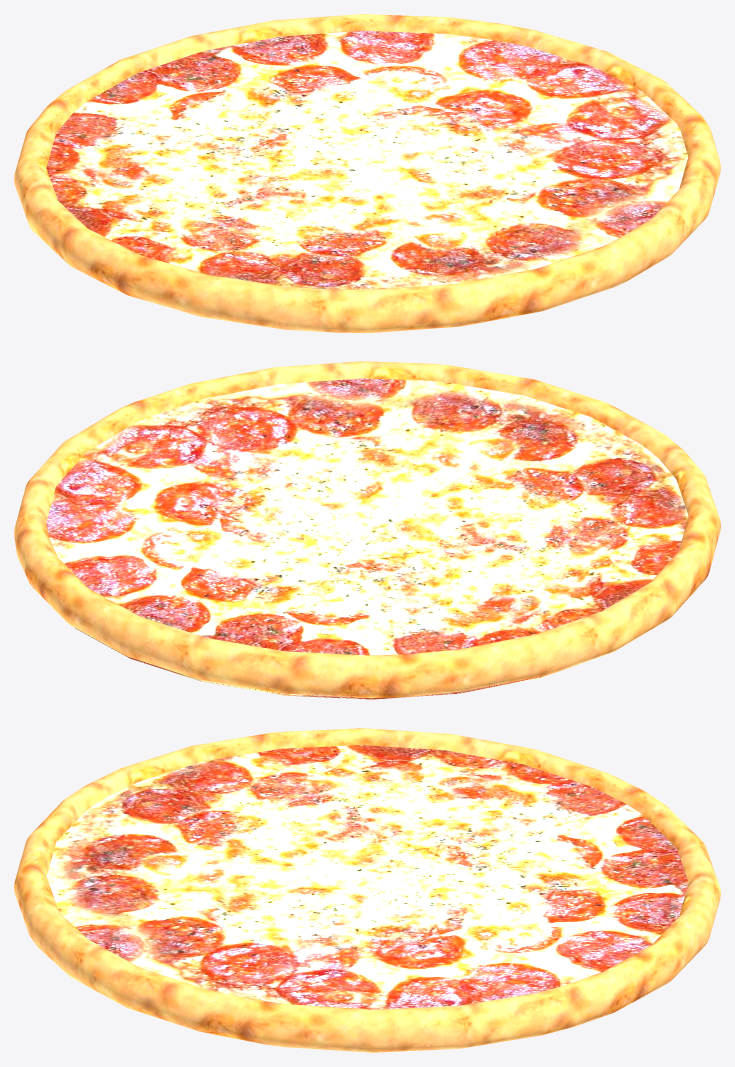
File: pizza.glb
The picture shows the model from 3 angles, top to bottom: view 1: azimuth 30°, elevation 25°; view 2: azimuth 150°, elevation 25°; view 3: azimuth 270°, elevation 25°; orthographic projection.
Visible parts, largest first — view 1: Material1-material (×7), Material0-material (×7); view 2: Material1-material (×7), Material0-material (×7); view 3: Material1-material (×7), Material0-material (×7).
Part boxes in pixels (x1,y1,x2,y2): Material1-material (×7): [46, 30, 688, 289]; Material0-material (×7): [14, 14, 720, 332]; Material1-material (×7): [46, 378, 688, 699]; Material0-material (×7): [14, 361, 720, 697]; Material1-material (×7): [46, 745, 688, 1009]; Material0-material (×7): [14, 728, 720, 1052].
Bounding box in the file's own units: 0.6833 × 0.0548 × 0.6832.
2 materials, 2 textured.
